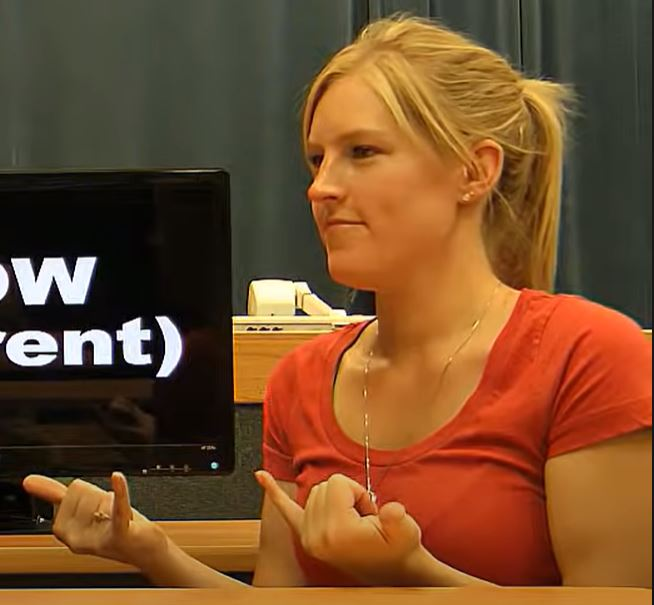Now: (4, 446, 457, 584)
